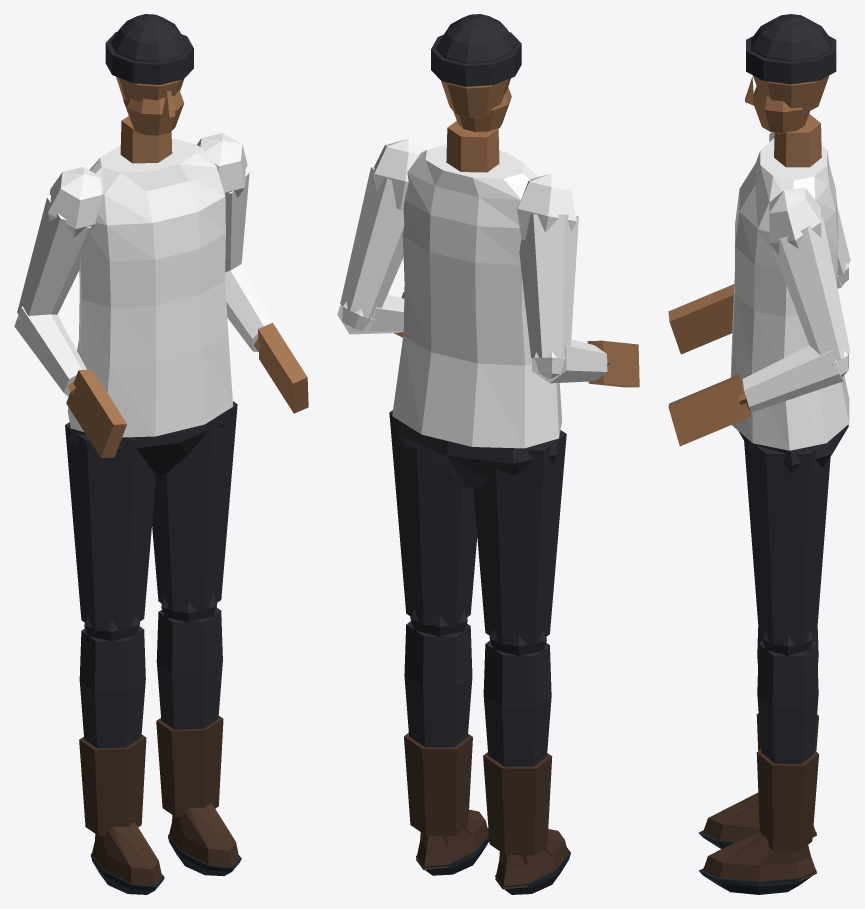
The model's file is operator.glb.
The picture shows the model from 3 angles, left to right: view 1: azimuth 30°, elevation 25°; view 2: azimuth 150°, elevation 25°; view 3: azimuth 270°, elevation 25°; orthographic projection. The views are drawn at different scales.
Parts seen in each view (by area): view 1: joint_body, joint_shinL, joint_shinR, joint_thighL, joint_thighR, joint_head, joint_armL, joint_forearmL, joint_forearmR, joint_armR; view 2: joint_body, joint_shinL, joint_shinR, joint_thighL, joint_thighR, joint_head, joint_armL, joint_armR, joint_forearmL, joint_forearmR; view 3: joint_body, joint_shinR, joint_thighR, joint_head, joint_armR, joint_forearmR, joint_forearmL, joint_shinL, joint_armL.
Part boxes in pixels (bbox=[...]): joint_body: bbox=[67, 139, 233, 475]; joint_shinL: bbox=[79, 626, 164, 894]; joint_shinR: bbox=[156, 607, 241, 875]; joint_thighL: bbox=[65, 422, 155, 642]; joint_thighR: bbox=[152, 401, 237, 623]; joint_head: bbox=[105, 14, 193, 163]; joint_armL: bbox=[17, 167, 102, 320]; joint_forearmL: bbox=[14, 306, 126, 457]; joint_forearmR: bbox=[225, 263, 308, 413]; joint_armR: bbox=[197, 133, 249, 272]; joint_body: bbox=[392, 144, 561, 488]; joint_shinL: bbox=[483, 640, 570, 894]; joint_shinR: bbox=[404, 621, 489, 875]; joint_thighL: bbox=[473, 430, 566, 656]; joint_thighR: bbox=[389, 410, 477, 637]; joint_head: bbox=[431, 14, 521, 172]; joint_armL: bbox=[517, 173, 578, 378]; joint_armR: bbox=[340, 138, 423, 331]; joint_forearmL: bbox=[532, 339, 639, 387]; joint_forearmR: bbox=[337, 292, 404, 337]; joint_body: bbox=[730, 139, 849, 474]; joint_shinR: bbox=[698, 641, 818, 894]; joint_thighR: bbox=[743, 436, 830, 656]; joint_head: bbox=[745, 14, 836, 167]; joint_armR: bbox=[769, 187, 850, 377]; joint_forearmR: bbox=[668, 345, 843, 446]; joint_forearmL: bbox=[668, 275, 843, 354]; joint_shinL: bbox=[698, 628, 818, 848]; joint_armL: bbox=[769, 132, 850, 284].
Size of the model in its own units: 0.5 by 1.8 by 0.35.
